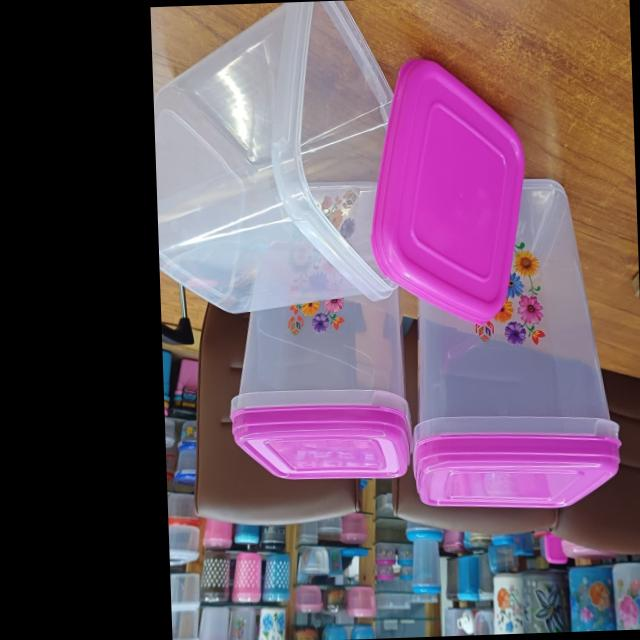plastic_box: (125, 1, 439, 336), (402, 175, 632, 540), (234, 307, 416, 483)
